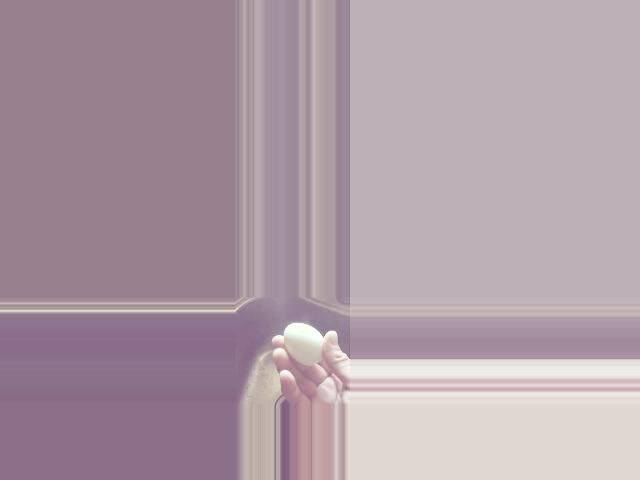egg: (284, 323, 324, 365)
